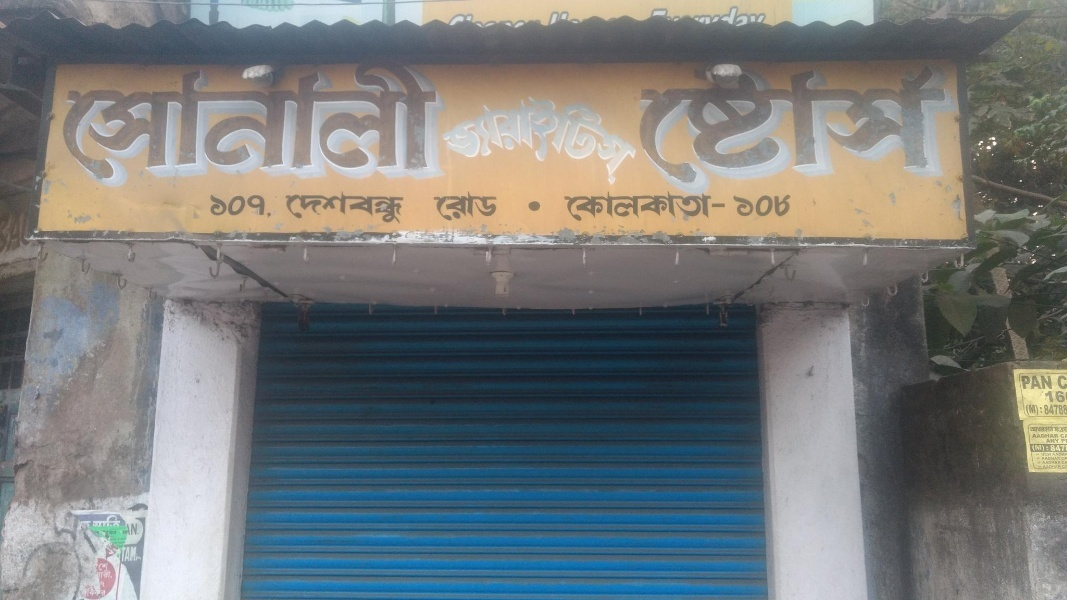text: (65, 52, 80, 184), (81, 52, 96, 184), (97, 52, 112, 184), (113, 52, 128, 184), (129, 52, 144, 184), (145, 52, 160, 184), (161, 52, 176, 184), (177, 52, 192, 184), (193, 52, 208, 184), (209, 52, 224, 184), (225, 52, 240, 184), (241, 52, 256, 184), (257, 52, 272, 184), (273, 52, 288, 184), (289, 52, 304, 184), (305, 52, 320, 184), (321, 52, 336, 184), (337, 52, 352, 184), (353, 52, 368, 184), (369, 52, 384, 184), (385, 52, 400, 184), (401, 52, 416, 184), (417, 52, 432, 184), (433, 52, 448, 184), (641, 63, 656, 190), (657, 63, 672, 190), (673, 63, 688, 190), (689, 63, 704, 190), (705, 63, 720, 190), (721, 63, 736, 190), (737, 63, 752, 190), (753, 63, 768, 190), (769, 63, 784, 190), (785, 63, 800, 190), (801, 63, 816, 190), (817, 63, 832, 190), (833, 63, 848, 190), (849, 63, 864, 190), (865, 63, 880, 190), (881, 63, 896, 190), (897, 63, 912, 190), (913, 63, 928, 190), (929, 63, 944, 190), (449, 94, 464, 189), (465, 94, 480, 189), (481, 94, 496, 189), (497, 94, 512, 189), (513, 94, 528, 189), (529, 94, 544, 189), (545, 94, 560, 189), (561, 94, 576, 189), (577, 94, 592, 189), (593, 94, 608, 189), (609, 94, 624, 189), (625, 94, 640, 189), (434, 94, 448, 189), (641, 94, 652, 189), (632, 63, 640, 190), (433, 189, 448, 226), (449, 189, 464, 226), (465, 189, 480, 226), (481, 189, 496, 226), (60, 52, 64, 184), (561, 190, 576, 222), (577, 190, 592, 222), (593, 190, 608, 222), (609, 190, 624, 222), (625, 190, 640, 222), (641, 190, 656, 222), (657, 190, 672, 222), (673, 190, 688, 222), (689, 190, 704, 222), (289, 193, 304, 224), (305, 193, 320, 224), (321, 193, 336, 224), (337, 193, 352, 224), (353, 193, 368, 224), (369, 193, 384, 224), (385, 193, 400, 224), (209, 193, 224, 221), (225, 193, 240, 221), (241, 193, 256, 221), (257, 193, 272, 221), (449, 52, 452, 184), (945, 63, 948, 190), (737, 194, 752, 218), (753, 194, 768, 218), (769, 194, 784, 218), (705, 190, 713, 222), (785, 194, 793, 218), (273, 193, 278, 221), (284, 193, 288, 224), (401, 193, 405, 224), (497, 189, 499, 226), (206, 193, 208, 221), (734, 194, 736, 218)
